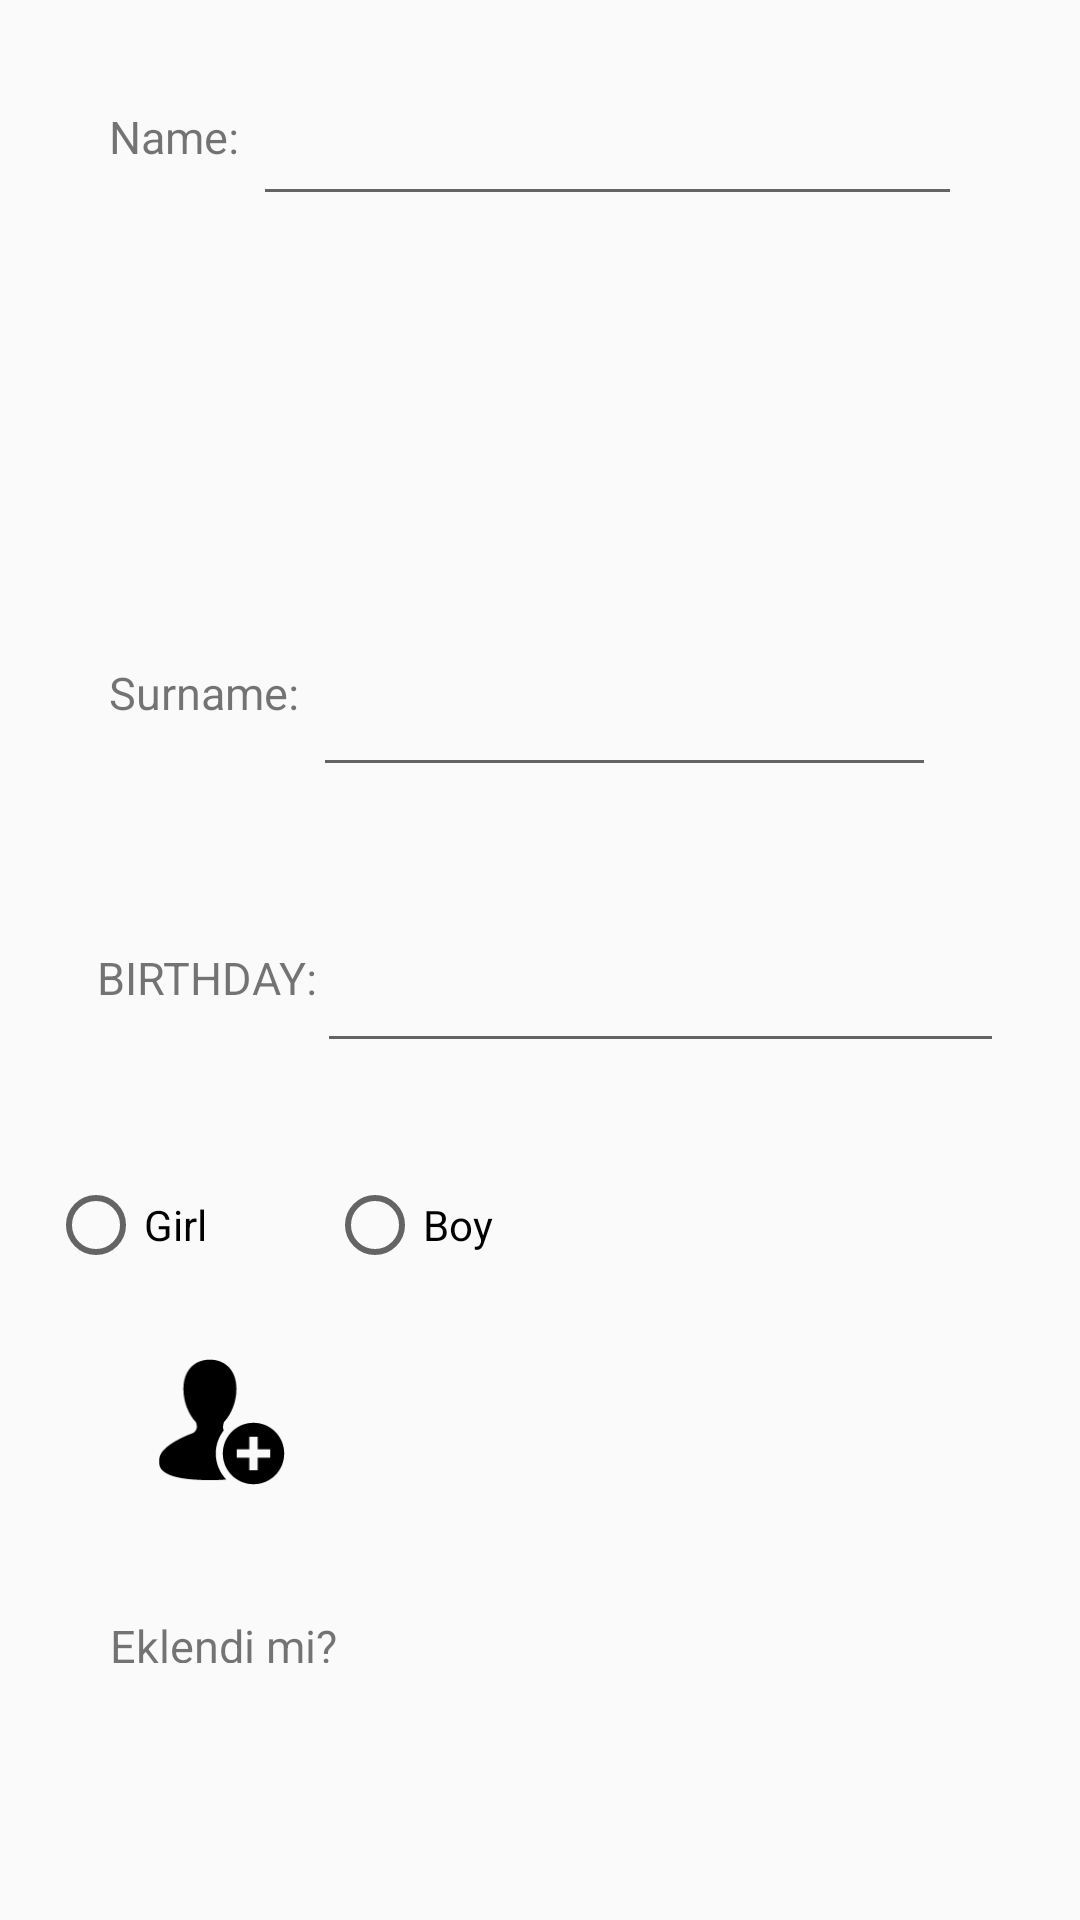

Icon click points for this 1080 x 1920 phone screenshot, format [x,y]:
addbtn: [222,1422]
